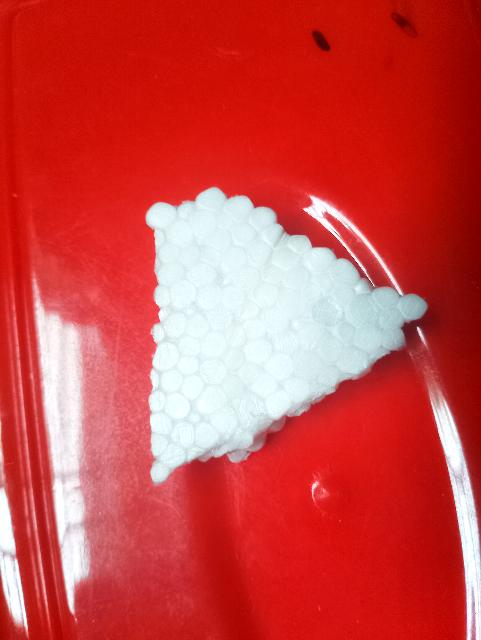cocksheet: (59, 132, 427, 465)
